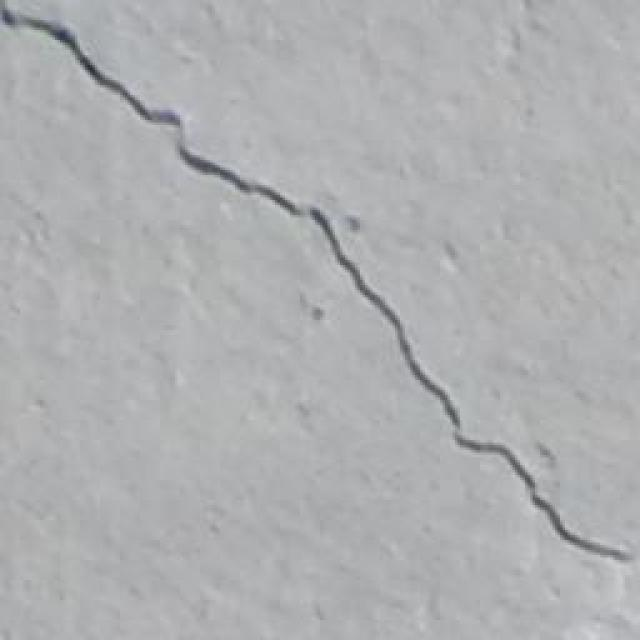Crack: (2, 0, 628, 558)
